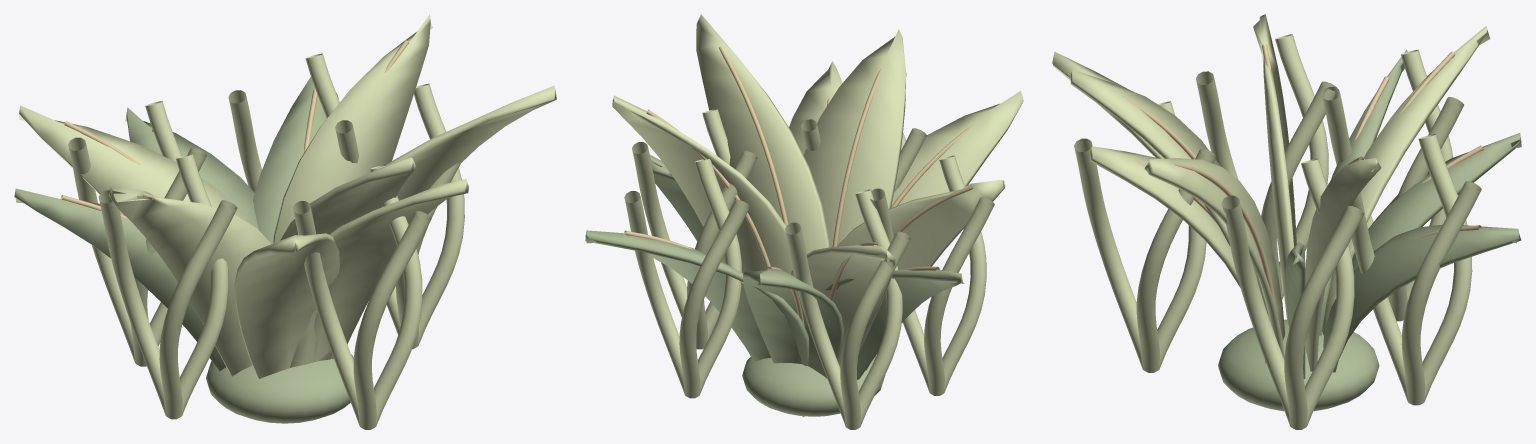
File: bio_mist_leaf_19_near.glb
The picture shows the model from 3 angles, left to right: view 1: azimuth 30°, elevation 25°; view 2: azimuth 150°, elevation 25°; view 3: azimuth 270°, elevation 25°; orthographic projection. The views are drawn at different scales.
Parts seen in each view (by area): view 1: Spiral filament.012, Spiral filament.006, Cupped condensate leaf.008, Cupped condensate leaf.007, Cupped condensate leaf.004, Cupped condensate leaf.010, Root rosette, Cupped condensate leaf.001, Cupped condensate leaf.009, Spiral filament, Spiral filament.003, Cupped condensate leaf.002 (+4 smaller); view 2: Cupped condensate leaf.002, Cupped condensate leaf.005, Spiral filament.009, Spiral filament.003, Cupped condensate leaf.008, Spiral filament.012, Cupped condensate leaf.007, Cupped condensate leaf.003, Cupped condensate leaf.004, Cupped condensate leaf.006, Spiral filament, Root rosette (+10 smaller); view 3: Spiral filament, Spiral filament.009, Spiral filament.006, Spiral filament.012, Root rosette, Cupped condensate leaf.003, Cupped condensate leaf.001, Cupped condensate leaf.005, Spiral filament.003, Cupped condensate leaf.004, Cupped condensate leaf.006, Cupped condensate leaf.002 (+6 smaller).
Boxes of the visible parts, bbox=[...] form: Spiral filament.012: bbox=[98, 154, 237, 419]; Spiral filament.006: bbox=[293, 164, 431, 429]; Cupped condensate leaf.008: bbox=[273, 14, 432, 243]; Cupped condensate leaf.007: bbox=[234, 233, 339, 378]; Cupped condensate leaf.004: bbox=[108, 186, 271, 376]; Cupped condensate leaf.010: bbox=[314, 179, 469, 361]; Root rosette: bbox=[206, 354, 353, 423]; Cupped condensate leaf.001: bbox=[19, 105, 250, 224]; Cupped condensate leaf.009: bbox=[14, 188, 226, 371]; Spiral filament: bbox=[335, 83, 464, 349]; Spiral filament.003: bbox=[68, 101, 206, 366]; Cupped condensate leaf.002: bbox=[280, 157, 415, 367]; Cupped condensate leaf.002: bbox=[803, 29, 906, 247]; Cupped condensate leaf.005: bbox=[696, 14, 829, 253]; Spiral filament.009: bbox=[624, 159, 749, 398]; Spiral filament.003: bbox=[785, 189, 910, 429]; Cupped condensate leaf.008: bbox=[612, 95, 792, 274]; Spiral filament.012: bbox=[870, 155, 994, 395]; Cupped condensate leaf.007: bbox=[891, 91, 1023, 206]; Cupped condensate leaf.003: bbox=[585, 230, 808, 366]; Cupped condensate leaf.004: bbox=[837, 180, 1005, 370]; Cupped condensate leaf.006: bbox=[743, 269, 843, 416]; Spiral filament: bbox=[632, 109, 757, 349]; Root rosette: bbox=[742, 356, 885, 416]; Spiral filament: bbox=[1221, 158, 1363, 429]; Spiral filament.009: bbox=[1351, 134, 1481, 405]; Spiral filament.006: bbox=[1074, 101, 1216, 372]; Spiral filament.012: bbox=[1196, 34, 1337, 299]; Root rosette: bbox=[1218, 319, 1379, 411]; Cupped condensate leaf.003: bbox=[1323, 224, 1521, 372]; Cupped condensate leaf.001: bbox=[1322, 26, 1490, 335]; Cupped condensate leaf.005: bbox=[1144, 158, 1284, 358]; Spiral filament.003: bbox=[1321, 49, 1463, 321]; Cupped condensate leaf.004: bbox=[1253, 14, 1296, 324]; Cupped condensate leaf.006: bbox=[1352, 133, 1521, 271]; Cupped condensate leaf.002: bbox=[1070, 69, 1230, 246].
Size of the model in its own units: 1.83 by 1.38 by 1.74.
